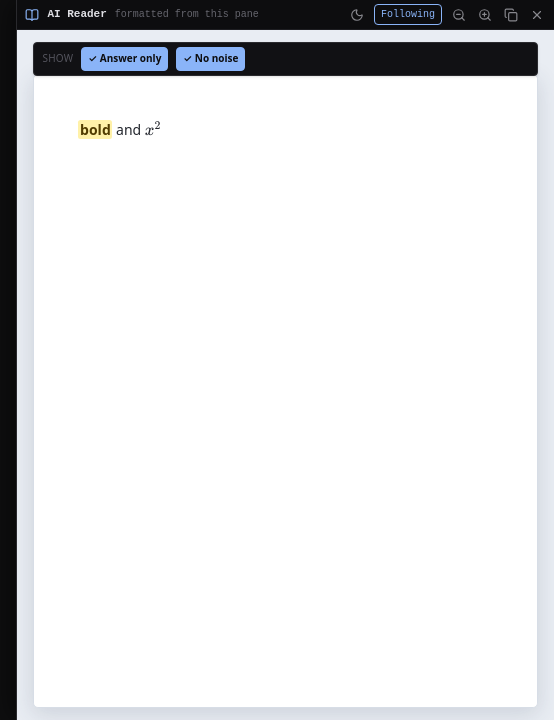
Scenario: AI Reader › copies the original pane text rather than rendered output
(page scrolled)
Click the button named "Copy the reader text" at (511, 14), box [502, 6, 520, 24]
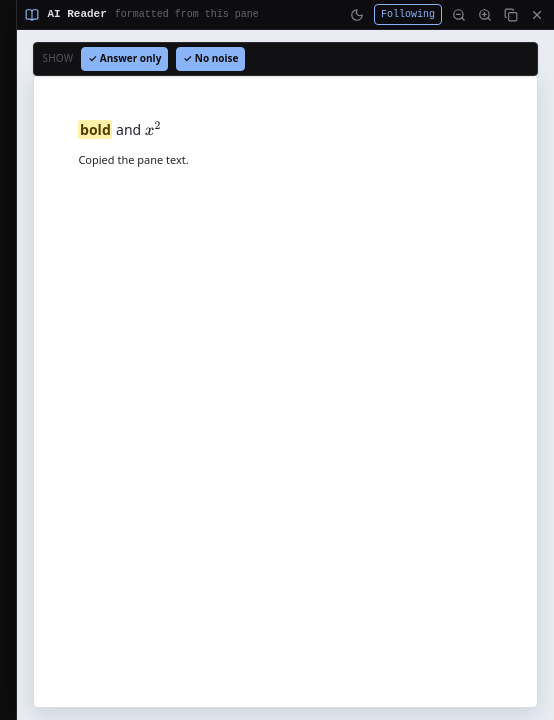
Expected: the message reads "Copied the pane text.", [78, 152, 189, 167]
